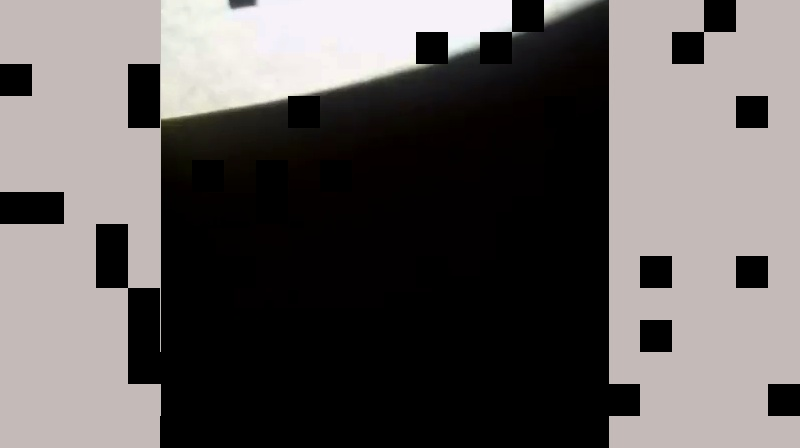O002: (209, 0, 380, 13)
